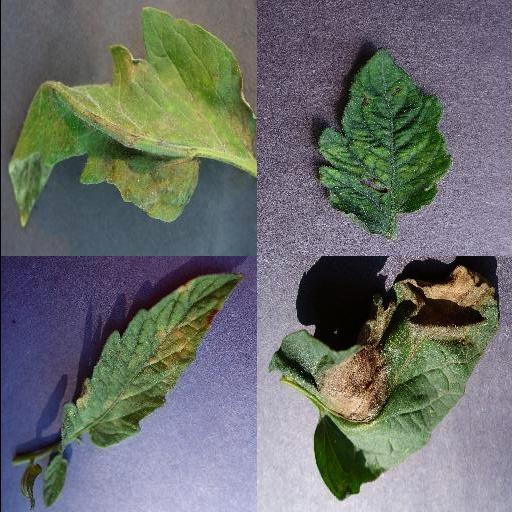Late Blight: (266, 265, 502, 501), (7, 4, 256, 226)
Leaf Mold: (60, 270, 246, 448)
Mosaic Virus: (316, 44, 452, 238)
